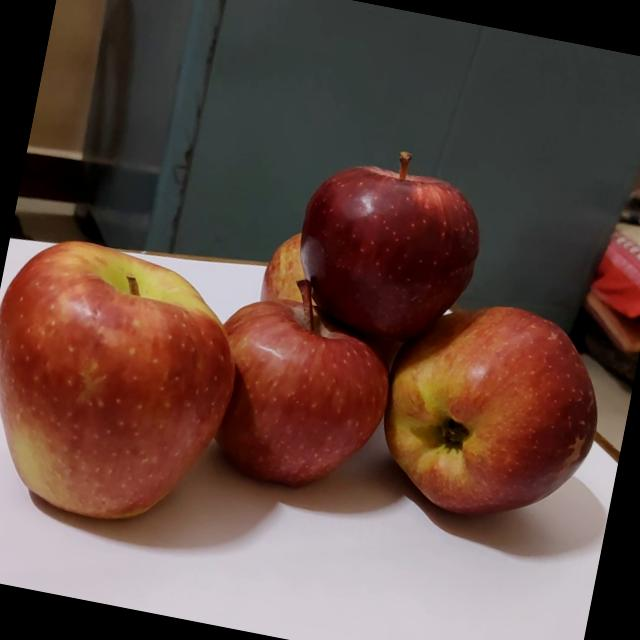apple: (0, 220, 254, 541), (361, 280, 618, 540), (185, 256, 404, 506), (270, 124, 496, 354), (249, 219, 332, 317)
